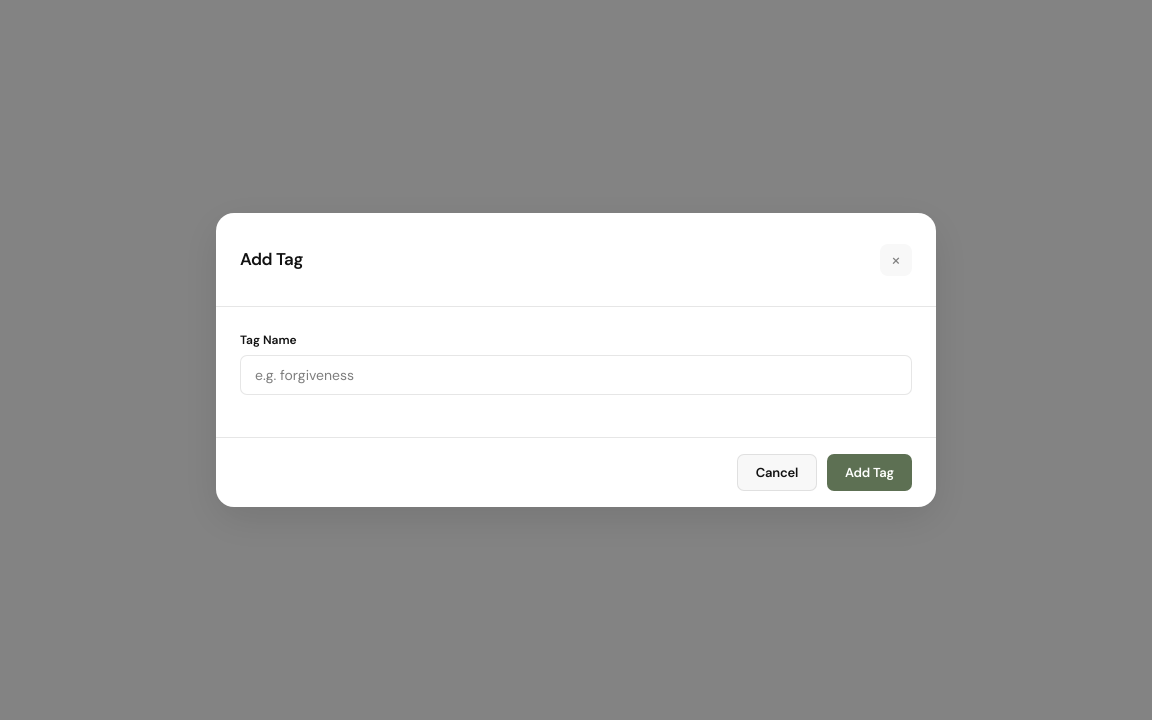
Test: AddTagModal › shows the specific field error from a validation failure
This screenshot has width=1152, height=720.
Step 1. Type "forgiveness" into the field with placeholder "e.g. forgiveness" → (576, 375), box [240, 355, 912, 395]
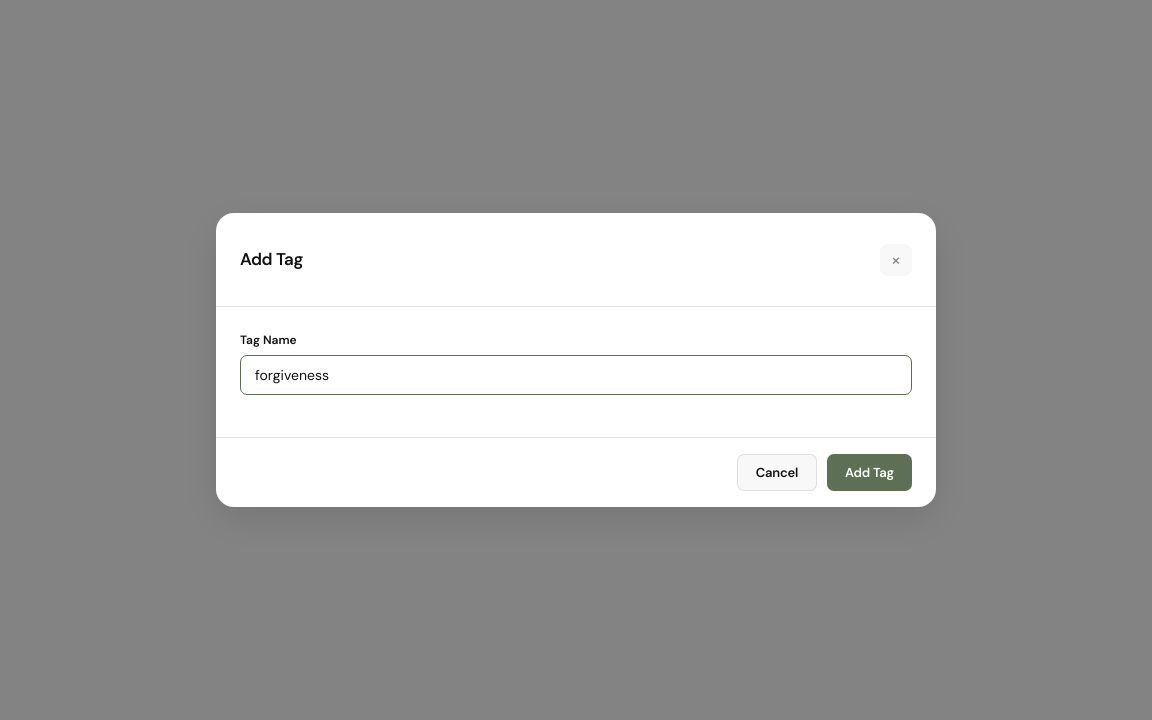
Step 2. Click the button "Add Tag" → (870, 473), box [827, 454, 912, 491]
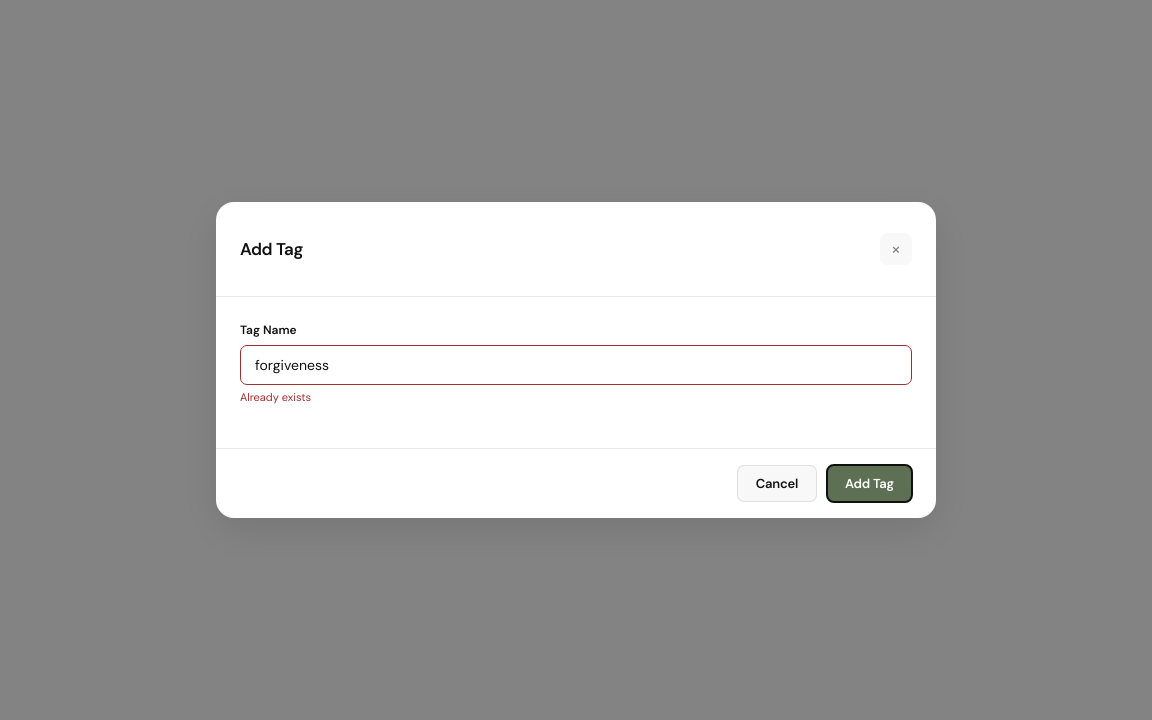
Now the text "Already exists" is shown, box [240, 390, 311, 404]
